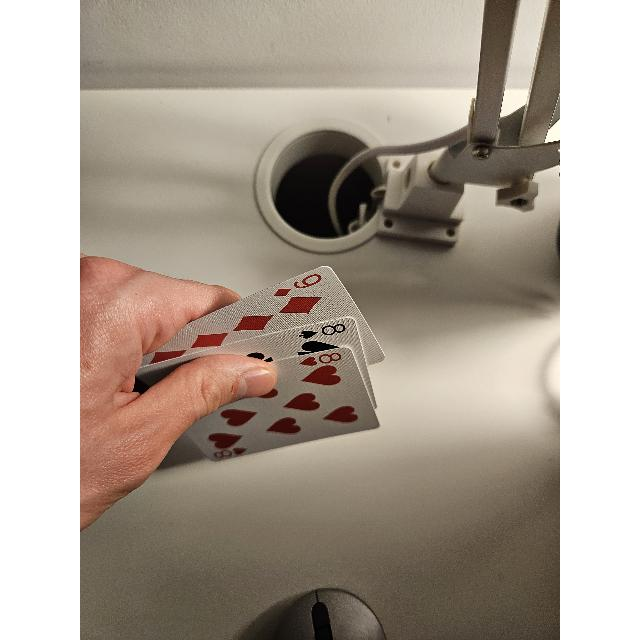8H: (298, 351, 344, 369), (212, 446, 250, 464)
8S: (301, 321, 349, 341)
9D: (274, 271, 326, 297)
